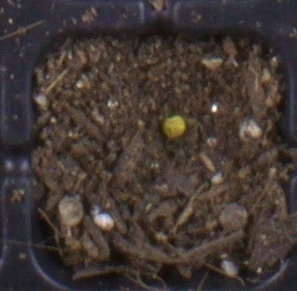chilli seed: (161, 114, 186, 139)
